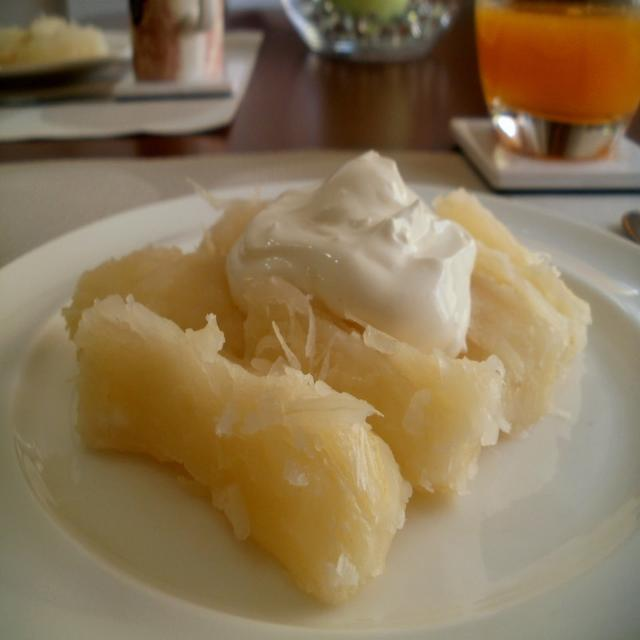yuca: (39, 294, 418, 612)
